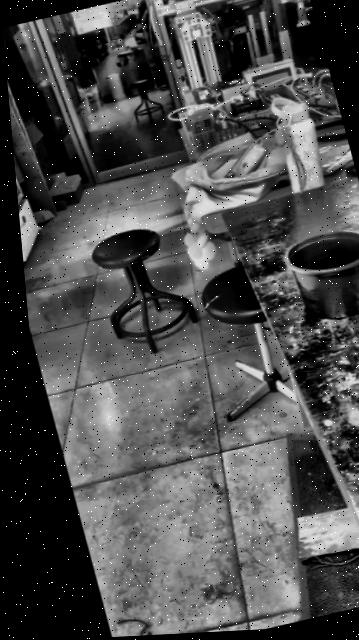pot: (279, 221, 359, 325)
